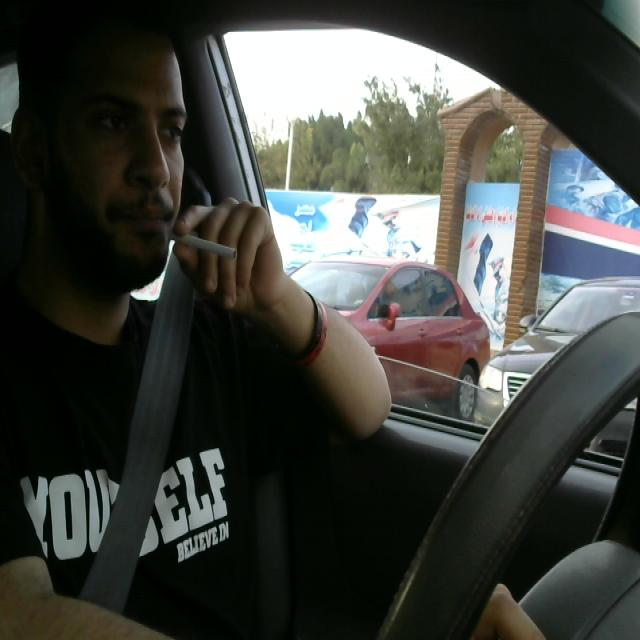smoking: (160, 220, 242, 273)
